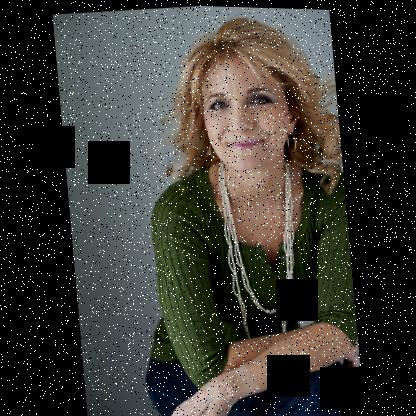Female: (196, 44, 304, 174)
